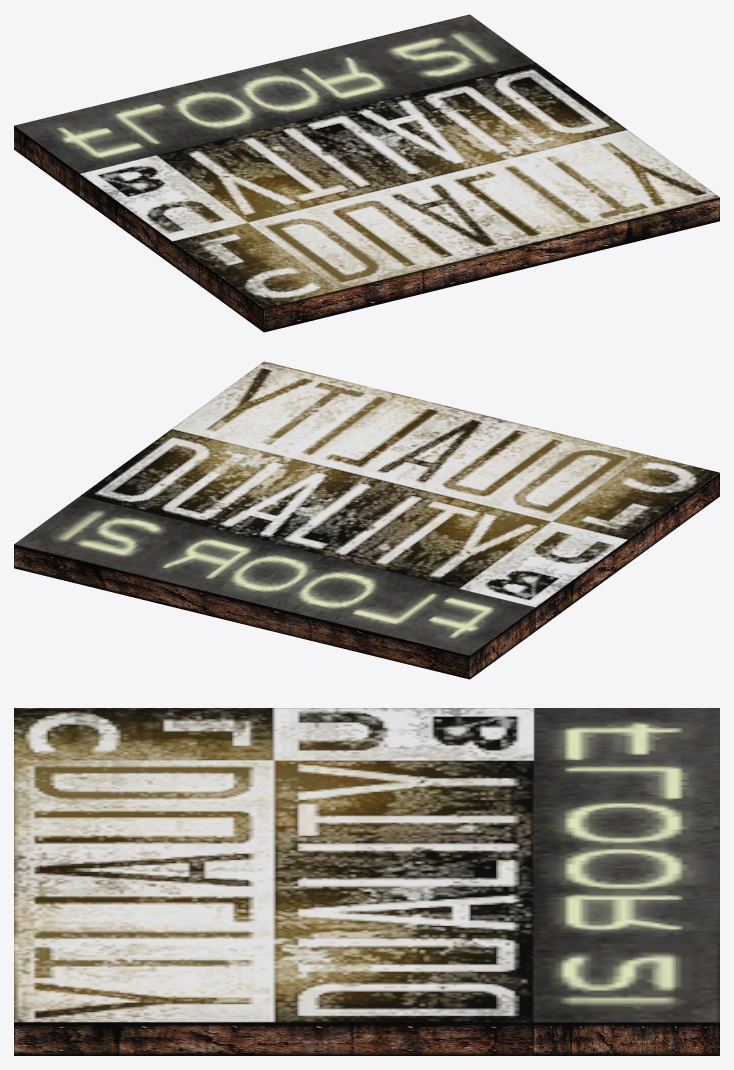
File: club_duality_int.fbx
3 views of the same model, one above another, from view 1: azimuth 30°, elevation 25°; view 2: azimuth 150°, elevation 25°; view 3: azimuth 270°, elevation 25° (orthographic). The views are drawn at different scales.
Visible parts, largest first — view 1: mesh_0, mesh_1; view 2: mesh_0, mesh_1; view 3: mesh_0, mesh_1.
Part boxes in pixels (<box>): mesh_0: <box>14,62,719,332</box>; mesh_1: <box>14,14,535,173</box>; mesh_0: <box>14,361,719,679</box>; mesh_1: <box>14,496,535,655</box>; mesh_0: <box>14,708,719,1055</box>; mesh_1: <box>534,708,719,1022</box>.
Size of the model in its own units: 200 by 10 by 190.
Materials: 2 (2 with a texture image).
